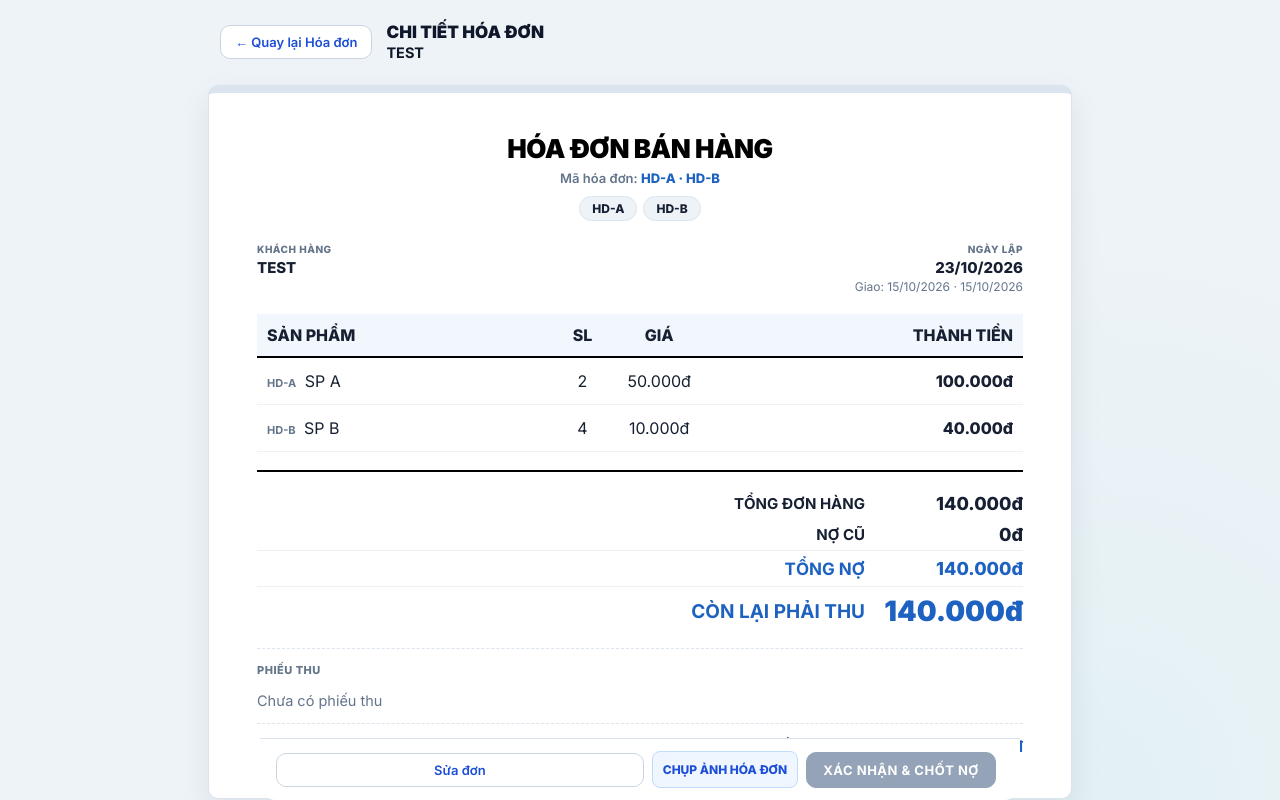
it: invoice split flow › keeps finalize disabled until capture, then enabled after capture
expect the button with class "btn-main" is disabled: met, box [806, 752, 996, 788]
What coordinates should you click on to do the following:
click the button with class "btn-capture"
I would click on:
 (725, 770)
Its box is [652, 751, 798, 788].
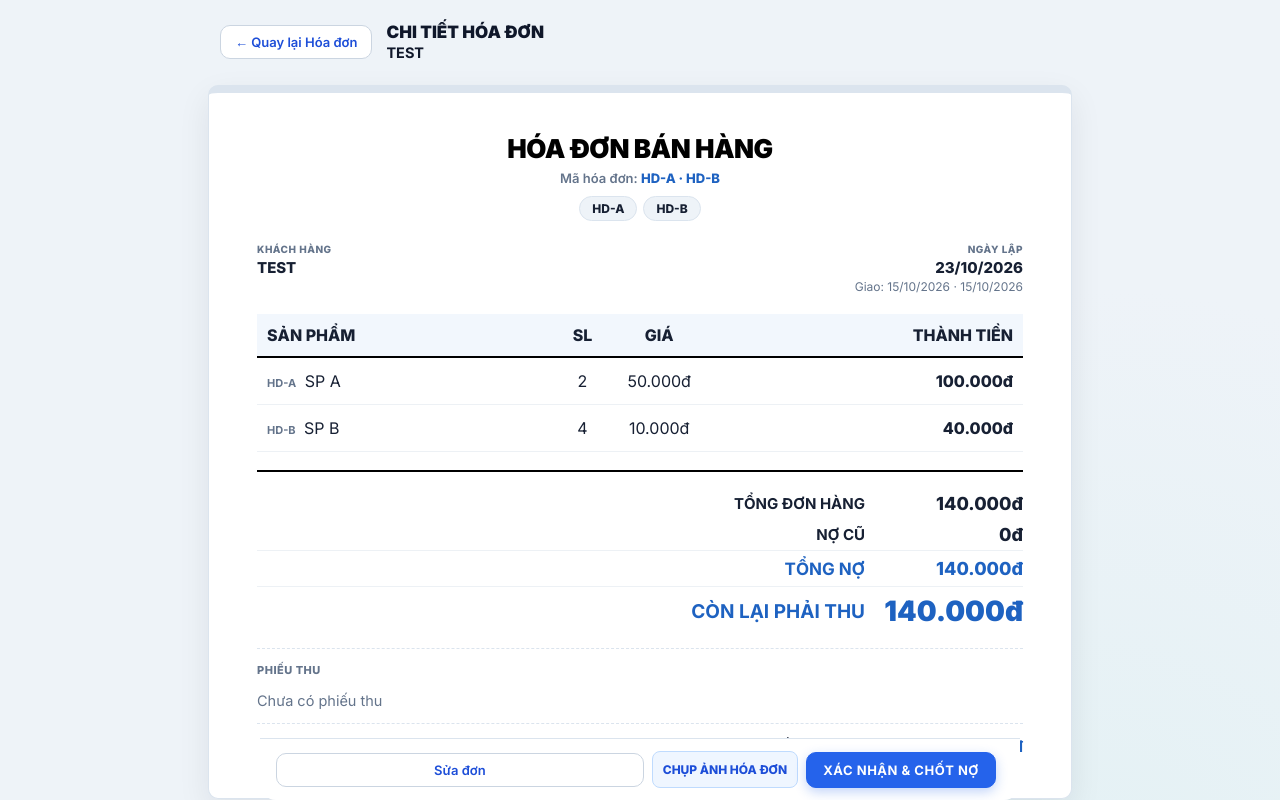
expect the button with class "btn-main" is enabled: met, box [806, 752, 996, 788]
